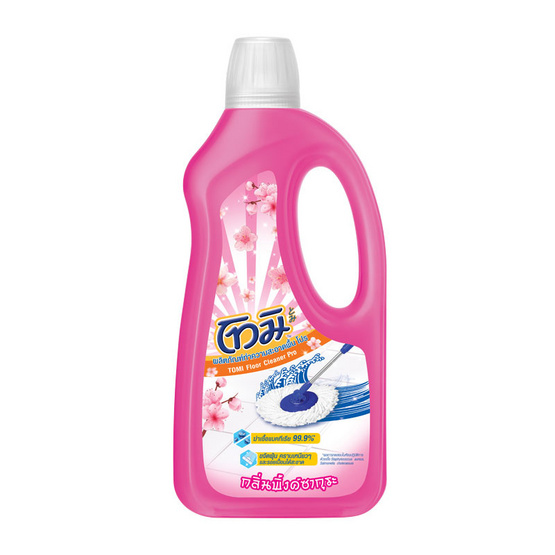Cleaning_solution: (167, 30, 392, 524)
